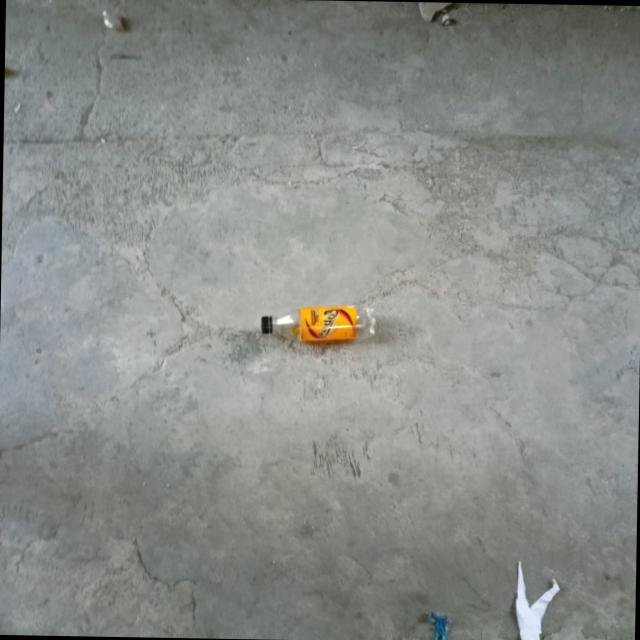Bottle: (259, 304, 378, 344)
